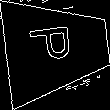P_E: (31, 27, 83, 70)
